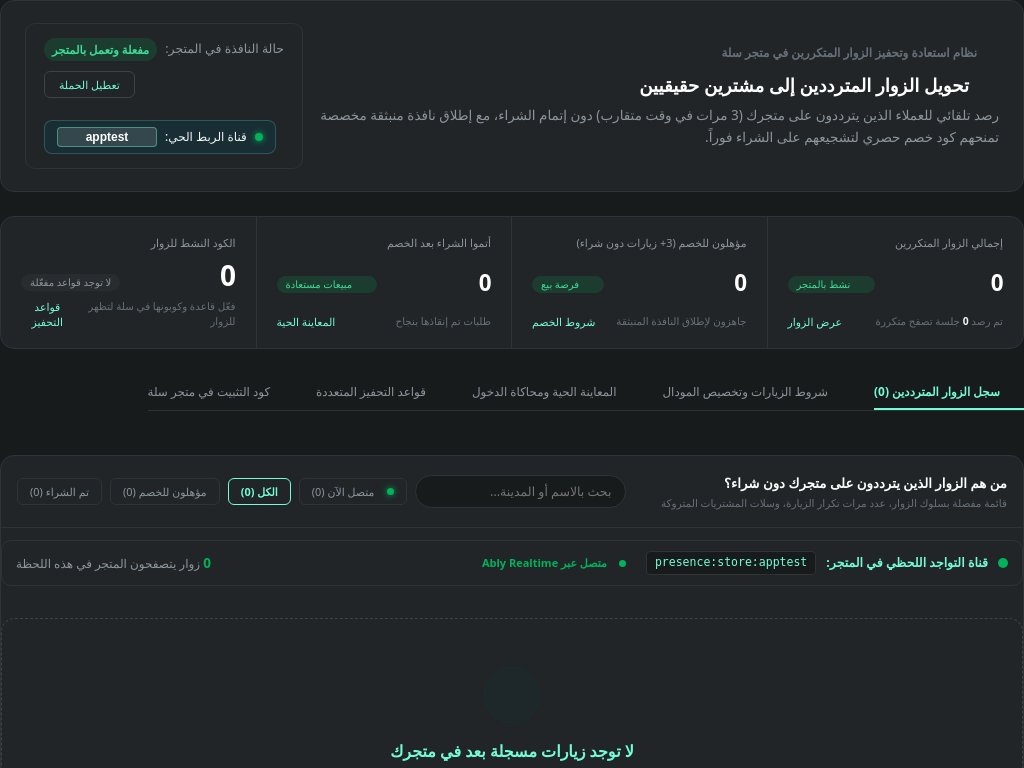
Test: VisitorIncentivesStudio › switches to the rules sub-tab and displays smart incentive rules with product selection
Click the tab "قواعد التحفيز المتعددة": (383, 391) [316, 373, 450, 410]
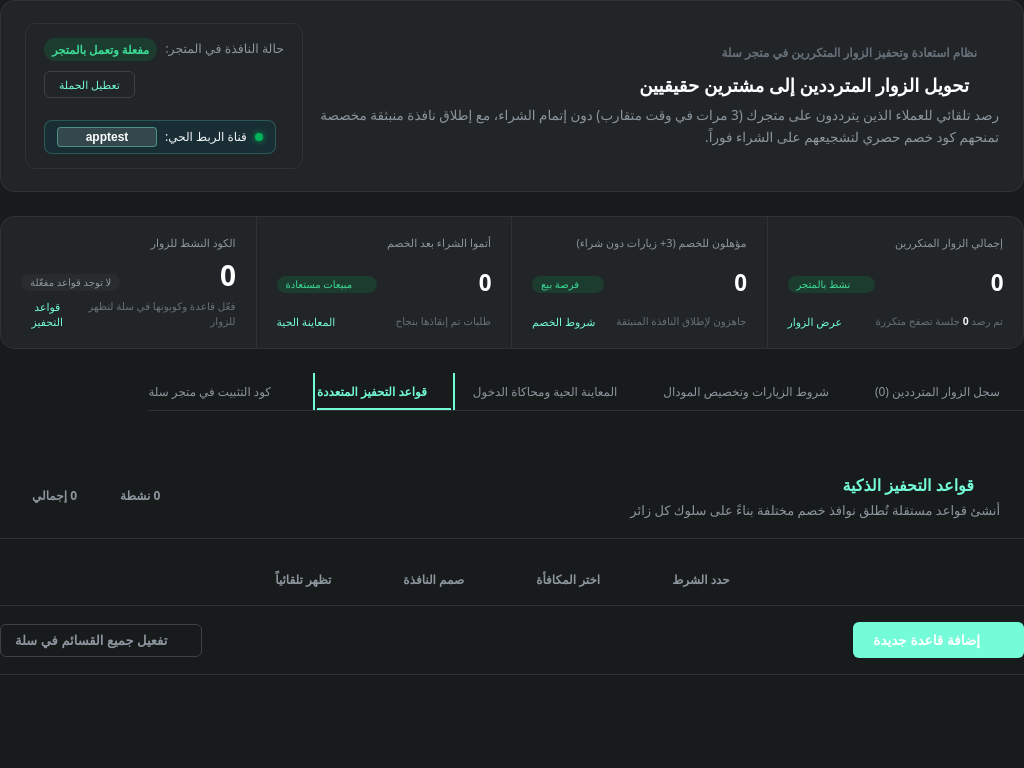
Now the heading "قواعد التحفيز الذكية" is shown, box [842, 474, 974, 496]
Now the button "إضافة قاعدة جديدة" is shown, box [853, 622, 1023, 658]
